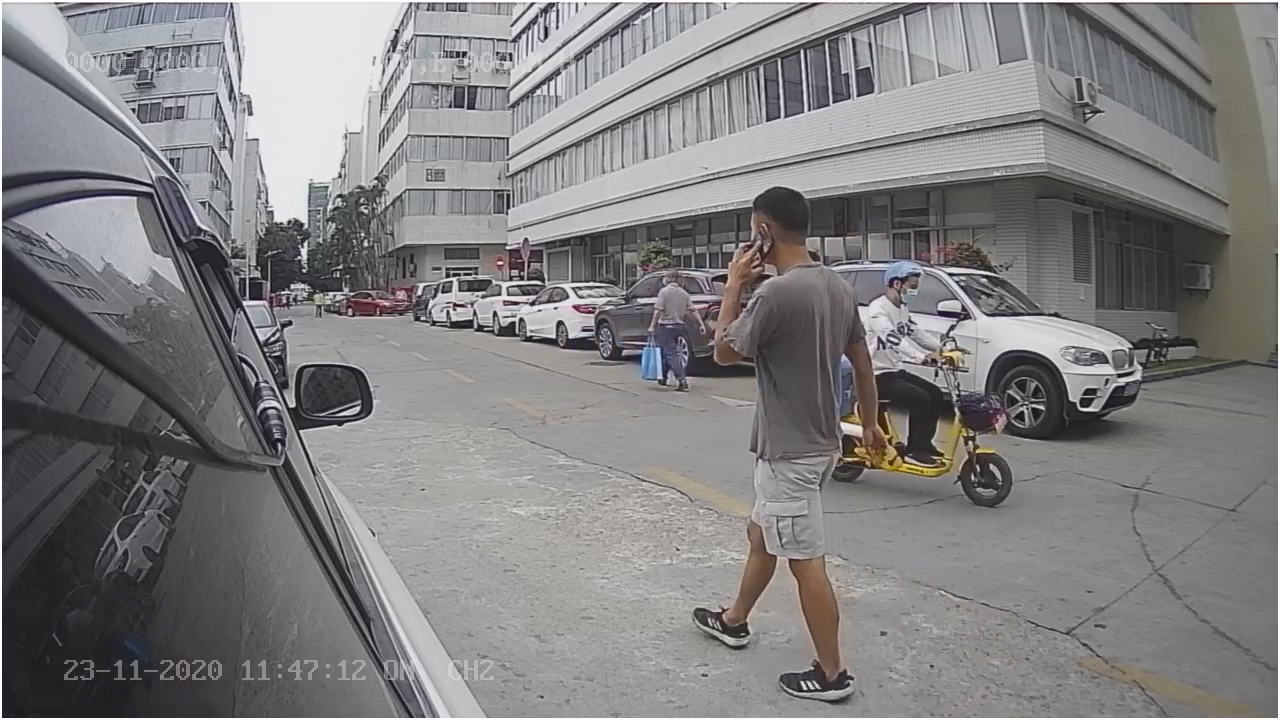person: (692, 189, 894, 702)
